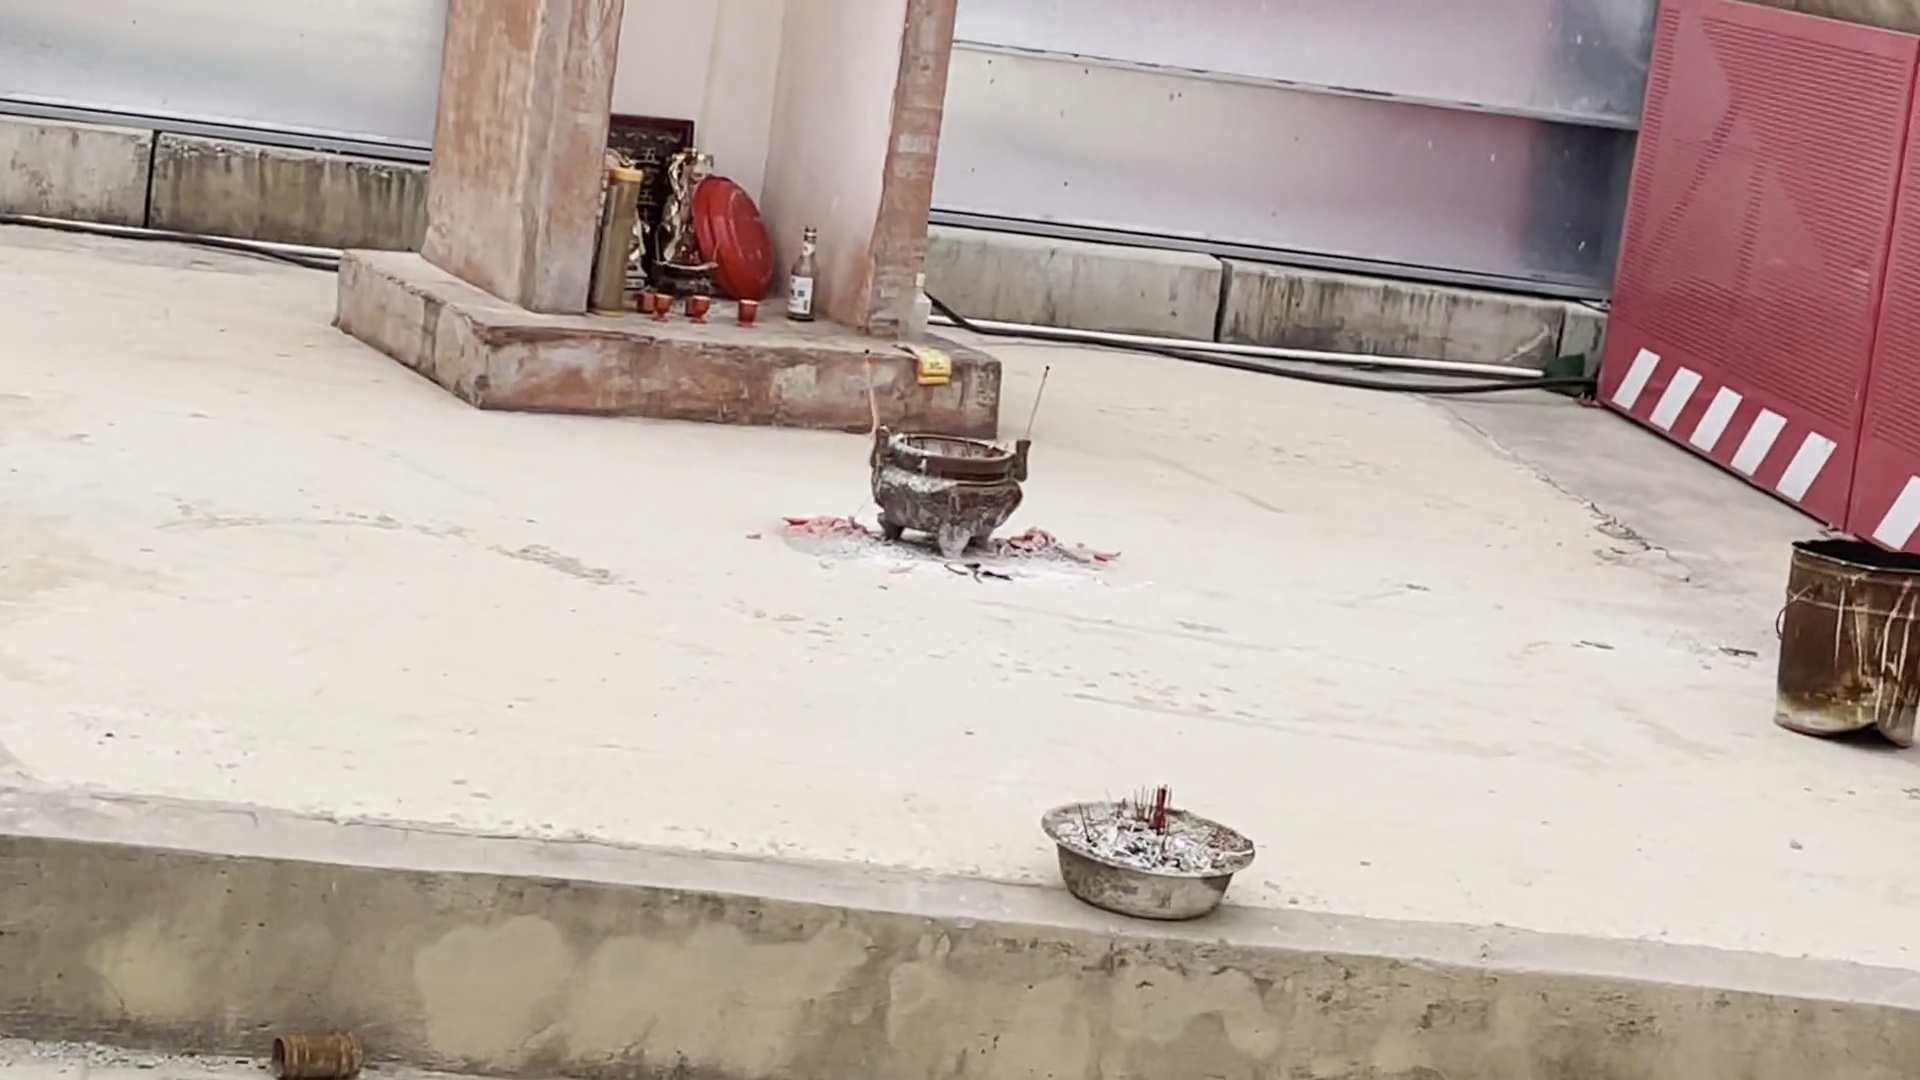fence: (1602, 9, 1915, 570)
